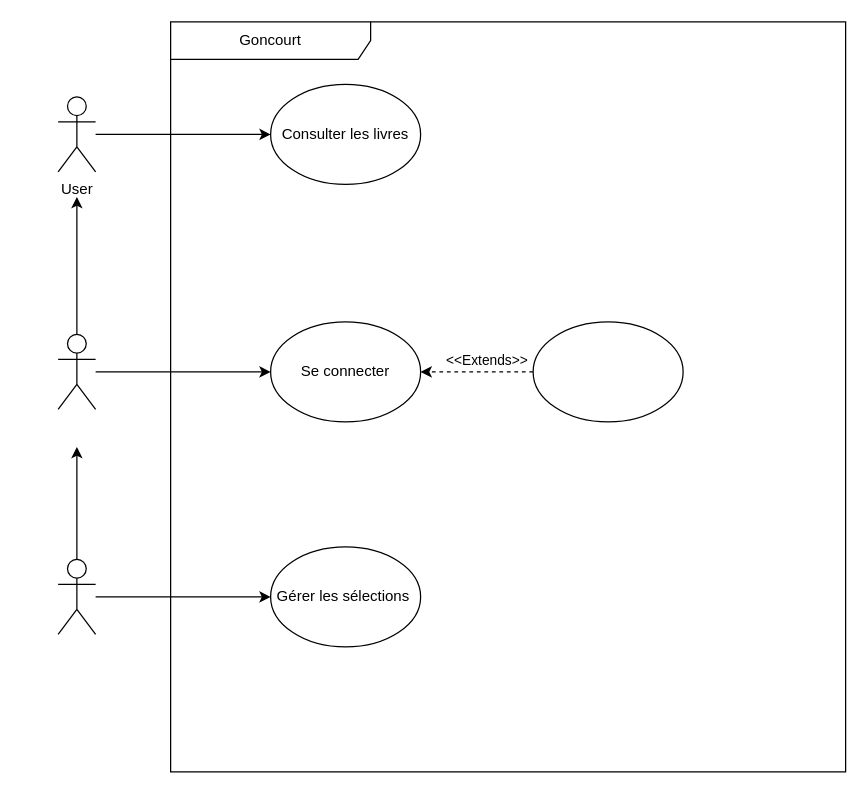
Some shapes in this 868 by 794 pixel diagram are drawn without their labels. The centre of each missing label's shape, as x and y in pixels:
"Jury" goes at (76,371).
"president du jury" goes at (76,596).
"Voter" goes at (607,371).
